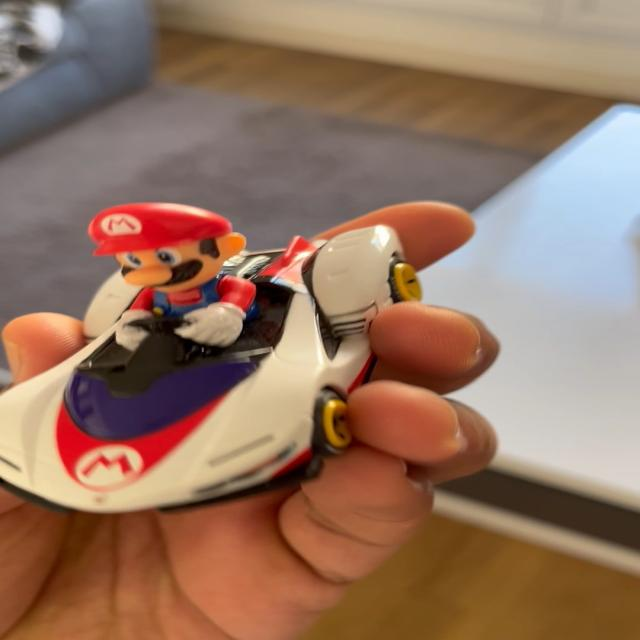mario: (0, 191, 446, 510)
